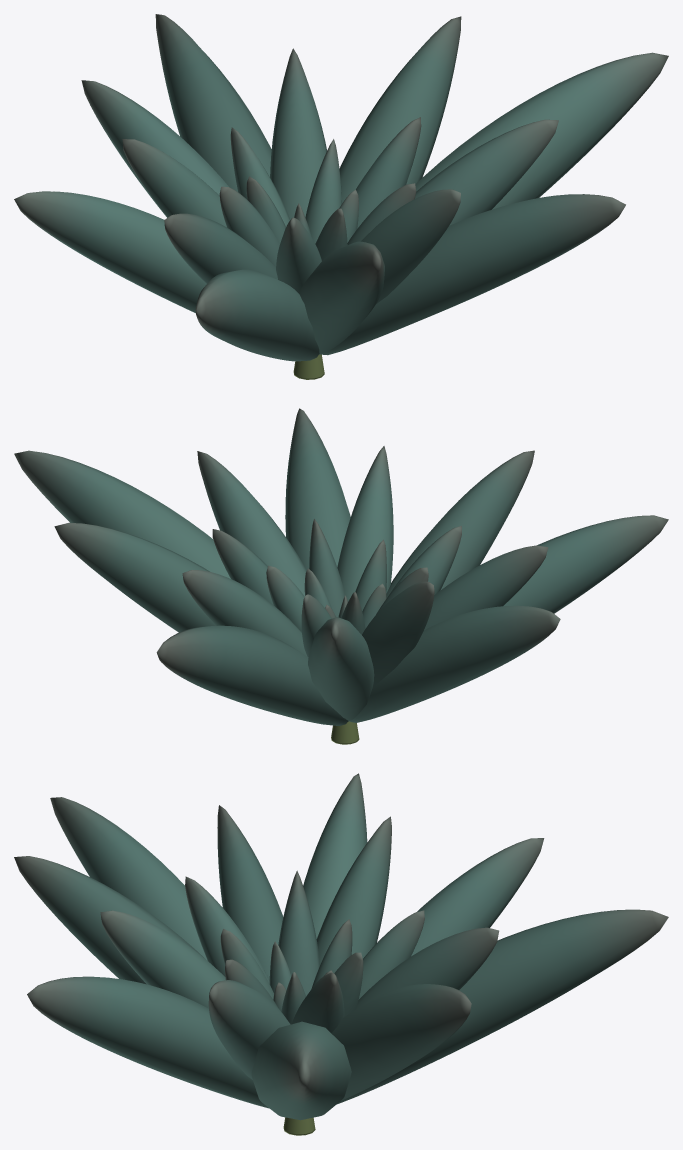
The model's file is n-succulentb.glb.
3 renders of one model, top to bottom at view 1: azimuth 30°, elevation 25°; view 2: azimuth 150°, elevation 25°; view 3: azimuth 270°, elevation 25°, orthographic. The views are drawn at different scales.
Visible parts, largest first — view 1: SucculentLeaves, SucculentStems; view 2: SucculentLeaves, SucculentStems; view 3: SucculentLeaves.
Boxes of the visible parts, left/top/right/bottom form: SucculentLeaves: left=14, top=14, right=668, bottom=361; SucculentStems: left=293, top=354, right=324, bottom=379; SucculentLeaves: left=14, top=408, right=668, bottom=725; SucculentStems: left=331, top=721, right=359, bottom=744; SucculentLeaves: left=14, top=773, right=668, bottom=1120.
Bounding box in the file's own units: 1.14 × 0.42 × 1.01.
